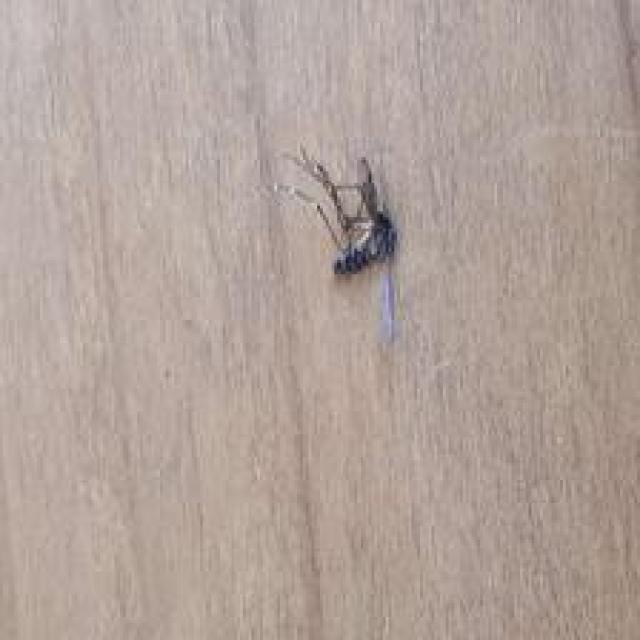Aedes albopictus: (273, 143, 401, 346)
